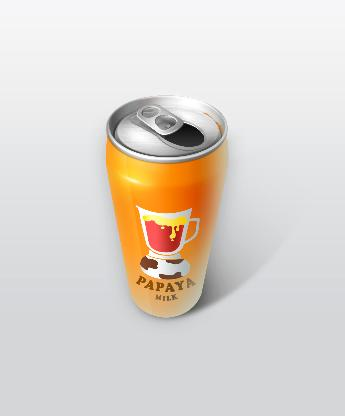Can: (106, 96, 228, 317)
